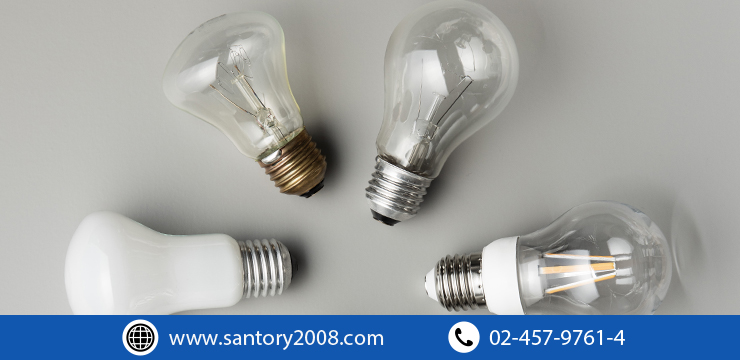Light_bulb: (353, 3, 529, 238), (158, 5, 333, 203), (414, 205, 689, 317), (57, 210, 306, 312)
